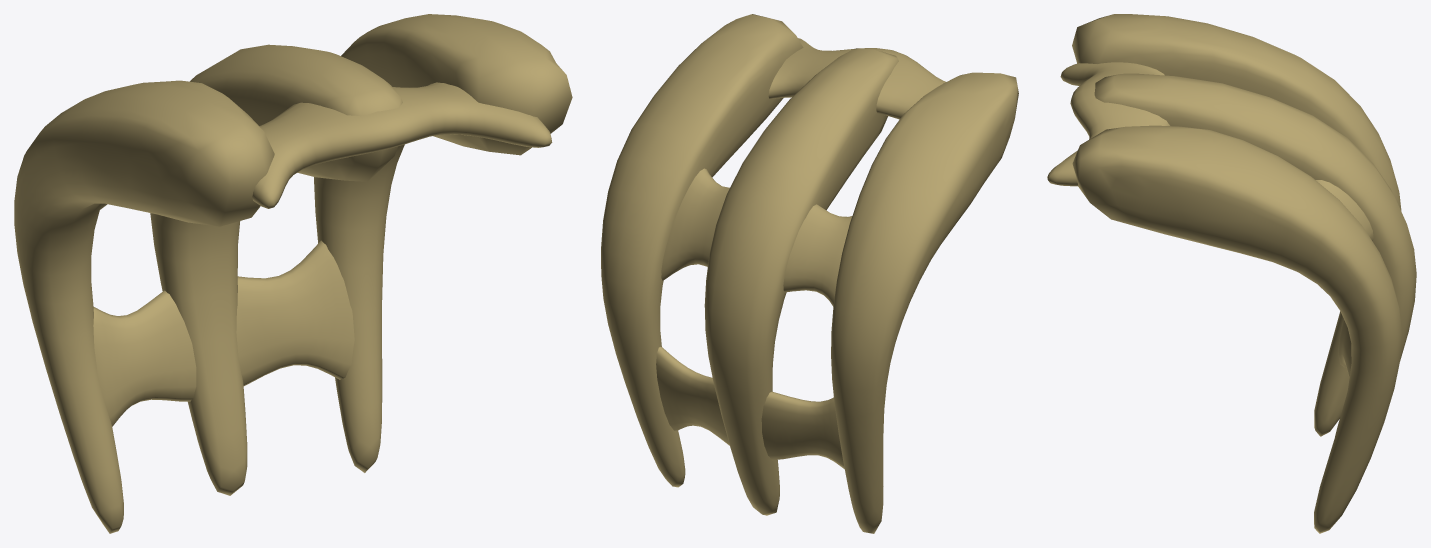
File: obj_artifact_fossil05b.fbx
3 renders of one model, left to right at view 1: azimuth 30°, elevation 25°; view 2: azimuth 150°, elevation 25°; view 3: azimuth 270°, elevation 25°, orthographic. The views are drawn at different scales.
Visible parts, largest first — view 1: Plane.009, Plane.010; view 2: Plane.009, Plane.010; view 3: Plane.009, Plane.010.
Part boxes in pixels (bbox=[...]): Plane.009: bbox=[14, 14, 572, 533]; Plane.010: bbox=[93, 82, 552, 426]; Plane.009: bbox=[601, 14, 1018, 533]; Plane.010: bbox=[656, 38, 945, 468]; Plane.009: bbox=[1072, 14, 1416, 533]; Plane.010: bbox=[1047, 62, 1373, 377].
Bounding box in the file's own units: 6.7 × 7.92 × 6.54.
